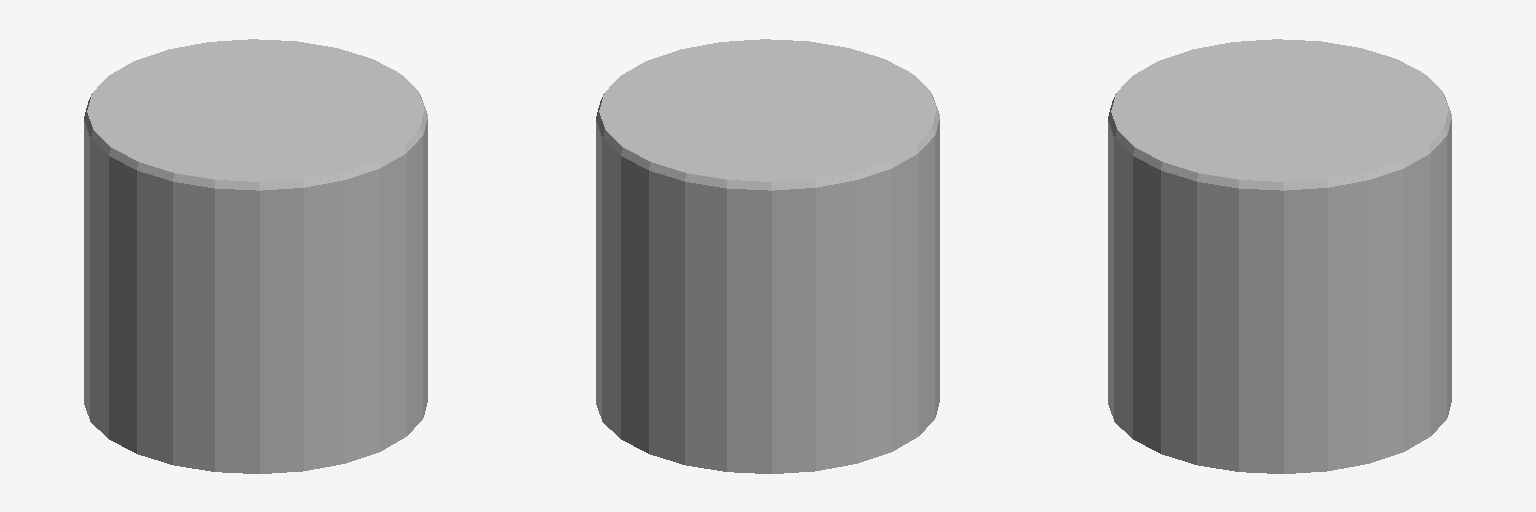
Rendered from original-2.obj.
The picture shows the model from 3 angles: view 1: azimuth 30°, elevation 25°; view 2: azimuth 150°, elevation 25°; view 3: azimuth 270°, elevation 25°; orthographic projection.
Parts seen in each view (by area): view 1: Group2/mesh2/mesh2-geometry#mesh2-geometry; view 2: Group2/mesh2/mesh2-geometry#mesh2-geometry; view 3: Group2/mesh2/mesh2-geometry#mesh2-geometry.
Part boxes in pixels (x1,y1,x2,y2): Group2/mesh2/mesh2-geometry#mesh2-geometry: (84, 39, 427, 473); Group2/mesh2/mesh2-geometry#mesh2-geometry: (596, 39, 939, 473); Group2/mesh2/mesh2-geometry#mesh2-geometry: (1108, 39, 1451, 473).
Size of the model in its own units: 0.2963 by 0.2758 by 0.2963.